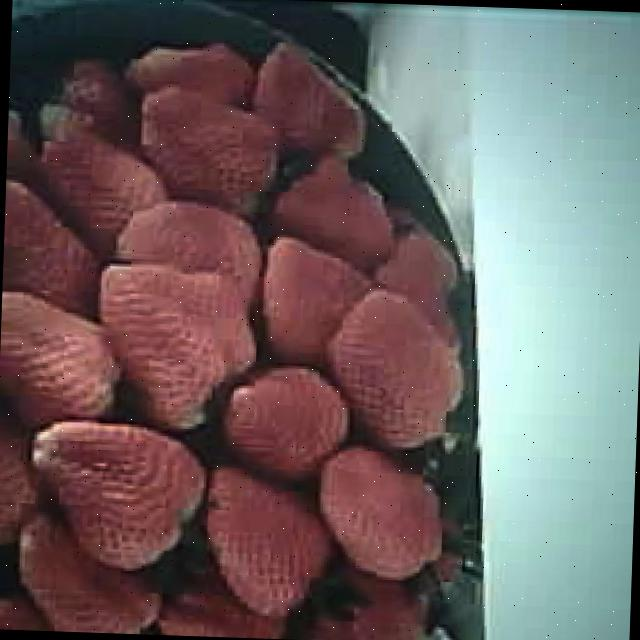strawberry: (97, 258, 255, 430), (30, 418, 203, 568), (332, 288, 454, 450), (315, 448, 446, 581)
